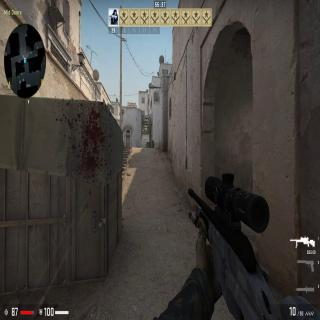T-Body: (152, 138, 154, 149)
T-Head: (152, 139, 154, 141)
